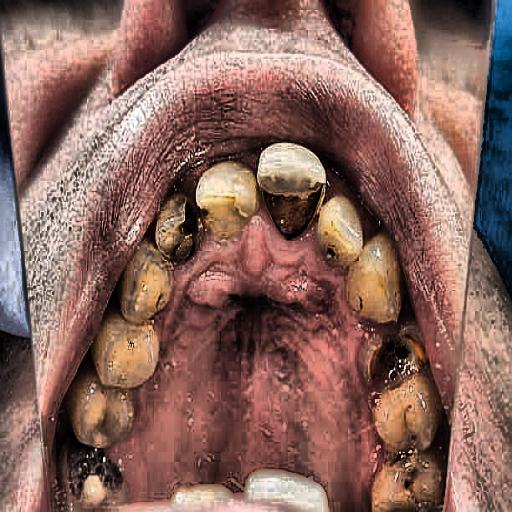Calculus: (69, 160, 206, 506), (209, 116, 433, 320), (362, 291, 468, 512)
